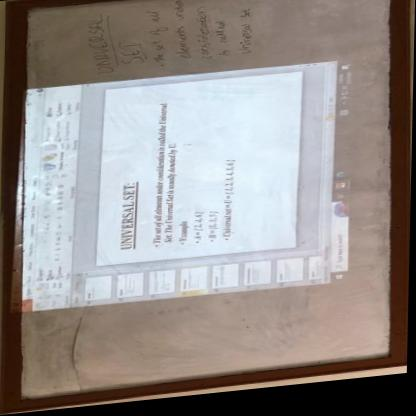Handwritten text: (75, 13, 115, 81), (166, 1, 192, 69), (190, 3, 214, 71), (145, 9, 169, 69), (233, 10, 259, 63), (114, 40, 146, 71), (213, 19, 233, 65)
Whiteboard: (13, 0, 400, 403)
